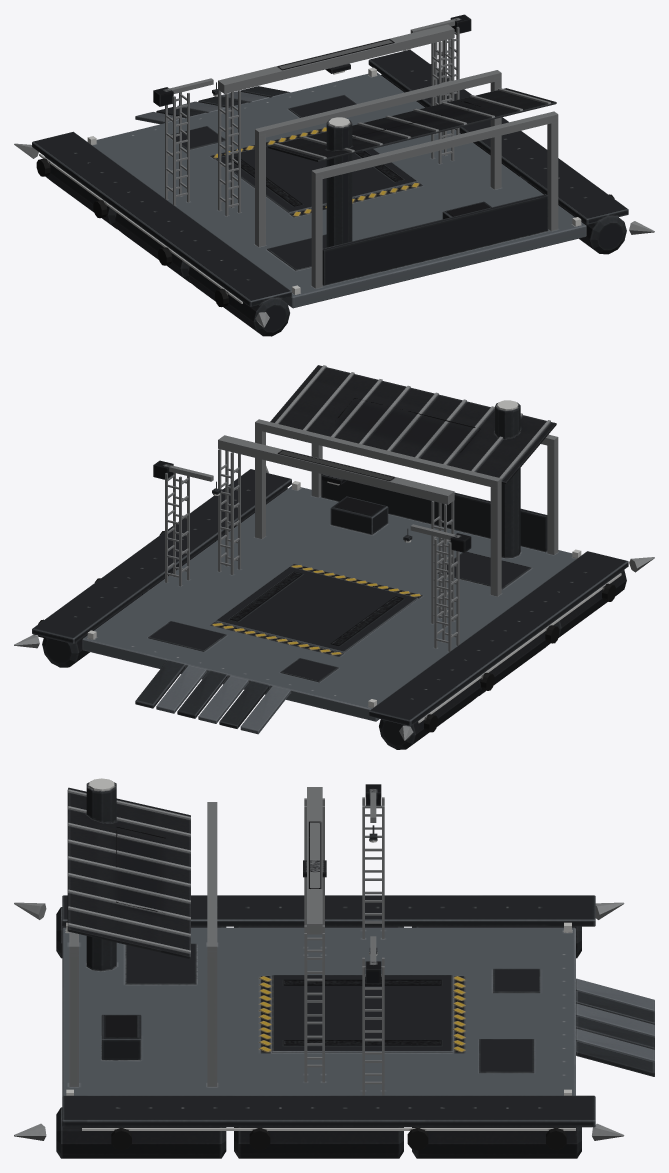
The model's file is chs_skimyard.fbx.
The picture shows the model from 3 angles, top to bottom: view 1: azimuth 30°, elevation 25°; view 2: azimuth 150°, elevation 25°; view 3: azimuth 270°, elevation 25°; orthographic projection. The views are drawn at different scales.
Parts seen in each view (by area): view 1: base_bar, base_glow_running_bar; view 2: base_bar, base_glow_running_bar; view 3: base_bar, base_glow_running_bar.
Part boxes in pixels (x1=…): base_bar: x1=14, y1=14, x2=654, y2=336; base_glow_running_bar: x1=39, y1=67, x2=581, y2=303; base_bar: x1=14, y1=365, x2=654, y2=749; base_glow_running_bar: x1=87, y1=481, x2=621, y2=723; base_bar: x1=14, y1=782, x2=654, y2=1158; base_glow_running_bar: x1=66, y1=922, x2=575, y2=1130.
Bounding box in the file's own units: 2800 × 1310 × 3244.
Materials: 2 (2 with a texture image).
